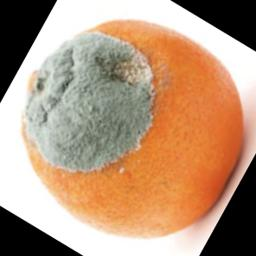Orange Rotten: (13, 2, 253, 256)
